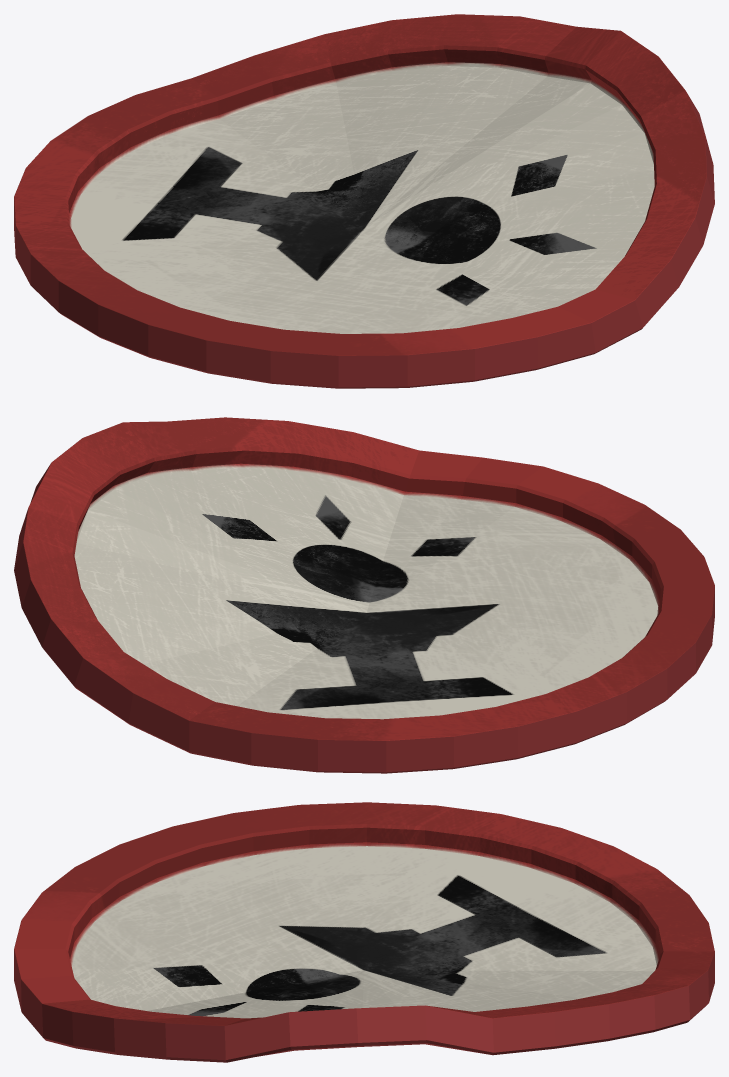
3 views of the same model, one above another, from view 1: azimuth 30°, elevation 25°; view 2: azimuth 150°, elevation 25°; view 3: azimuth 270°, elevation 25° (orthographic).
Visible parts, largest first — view 1: Cylinder.047; view 2: Cylinder.047; view 3: Cylinder.047.
Boxes of the visible parts, box(x1,y1,x2,y2) form: Cylinder.047: box(14, 14, 714, 388); Cylinder.047: box(14, 417, 714, 773); Cylinder.047: box(14, 802, 714, 1062).
Size of the model in its own units: 200 by 37.9 by 200.
3 materials, 1 textured.
